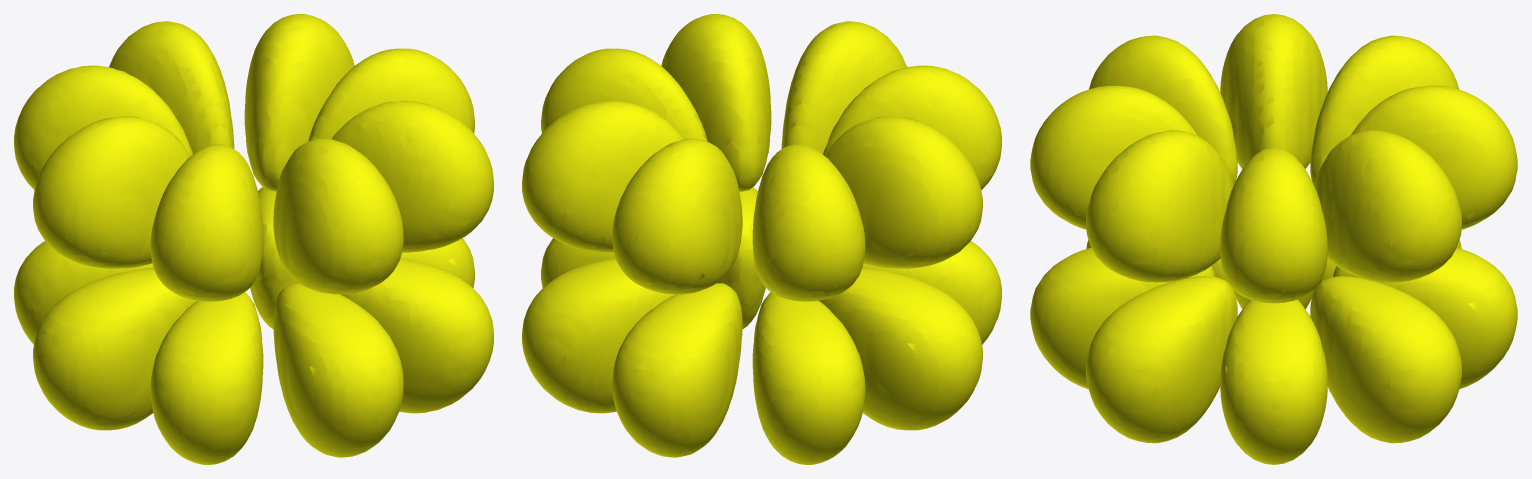
File: orb_n=6_ l=5 _m=4.fbx
3 views of the same model, side by side, from view 1: azimuth 30°, elevation 25°; view 2: azimuth 150°, elevation 25°; view 3: azimuth 270°, elevation 25° (orthographic).
Visible parts, largest first — view 1: orb_n=6_ l=5 _m=4; view 2: orb_n=6_ l=5 _m=4; view 3: orb_n=6_ l=5 _m=4.
Part boxes in pixels (x1,y1,x2,y2): orb_n=6_ l=5 _m=4: (14, 14, 493, 464); orb_n=6_ l=5 _m=4: (522, 14, 1001, 464); orb_n=6_ l=5 _m=4: (1030, 14, 1517, 464).
Bounding box in the file's own units: 12080 × 8264 × 12080.
